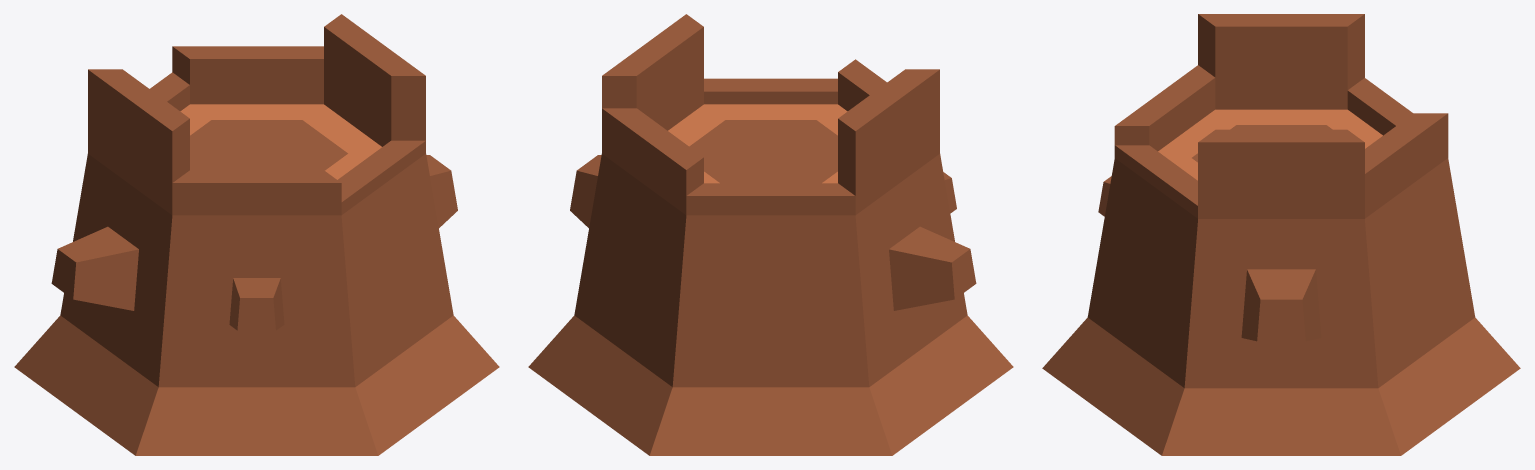
The model's file is trunk.fbx.
3 views of the same model, side by side, from view 1: azimuth 30°, elevation 25°; view 2: azimuth 150°, elevation 25°; view 3: azimuth 270°, elevation 25° (orthographic).
Visible parts, largest first — view 1: trunk; view 2: trunk; view 3: trunk.
Part boxes in pixels (left/top/right/bottom): trunk: left=14, top=14, right=499, bottom=455; trunk: left=528, top=14, right=1013, bottom=455; trunk: left=1042, top=14, right=1520, bottom=455.
Bounding box in the file's own units: 5.02 × 3.73 × 5.51.
